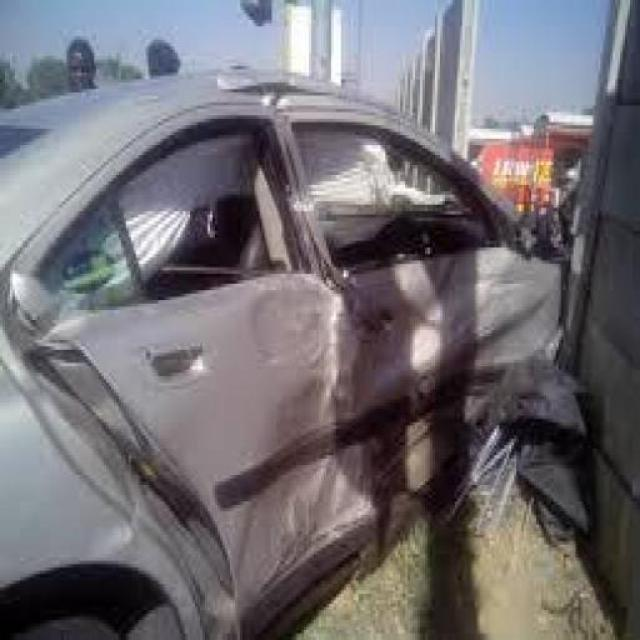crush: (8, 68, 568, 629)
